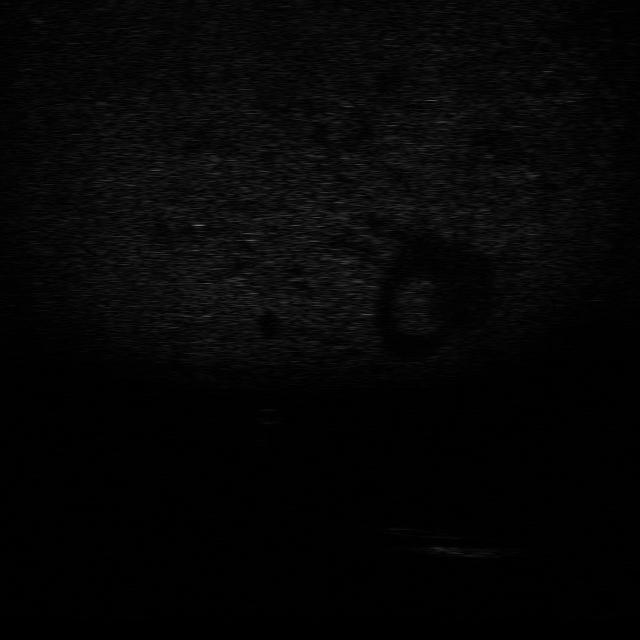ball: (250, 406, 289, 426)
metal bucket: (409, 540, 516, 564)
tyre: (382, 520, 486, 542)
